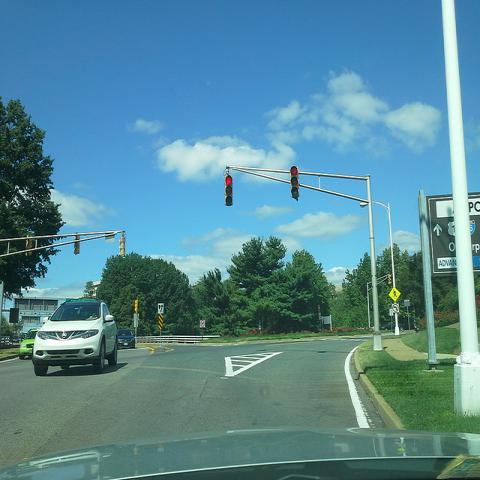car: (2, 423, 480, 474), (35, 299, 121, 376), (19, 330, 37, 361), (118, 329, 135, 348), (18, 333, 28, 343)
